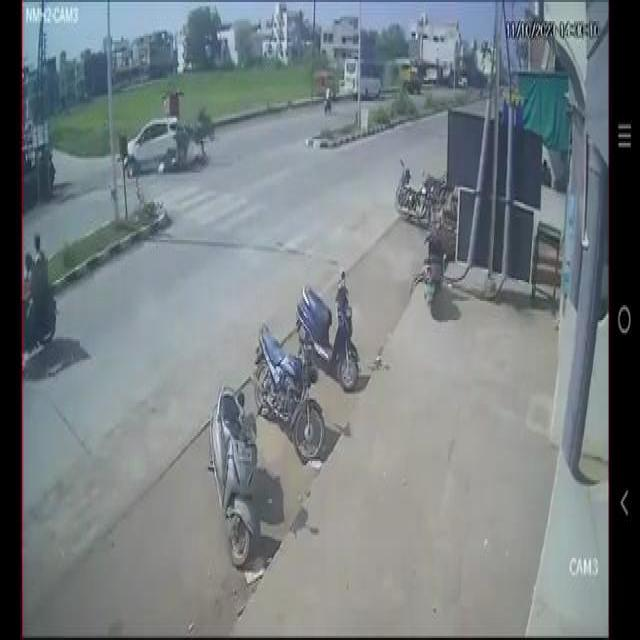accident: (120, 112, 213, 192)
